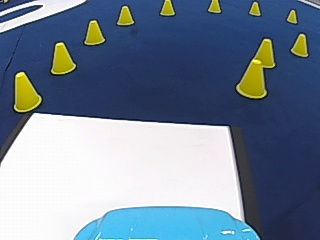cone: (235, 43, 270, 98), (12, 70, 41, 111), (49, 40, 76, 74), (252, 37, 276, 67), (84, 19, 105, 45), (290, 32, 308, 56), (116, 4, 134, 25), (159, 0, 175, 16), (248, 1, 261, 15), (285, 8, 297, 23), (207, 0, 220, 13)
